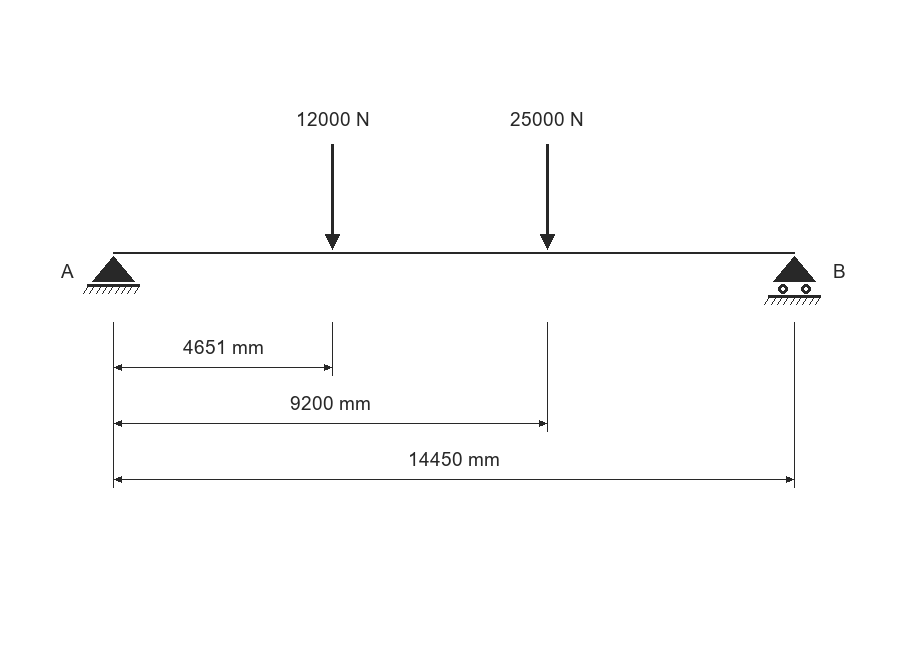pin_support: (83, 256, 140, 294)
point_load: (325, 144, 340, 250), (540, 144, 555, 250)
roller_support: (764, 256, 821, 305)
